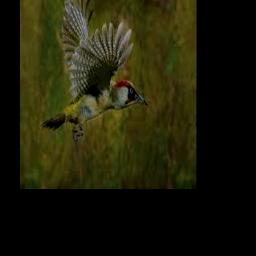Woodpecker: (40, 0, 148, 141)
